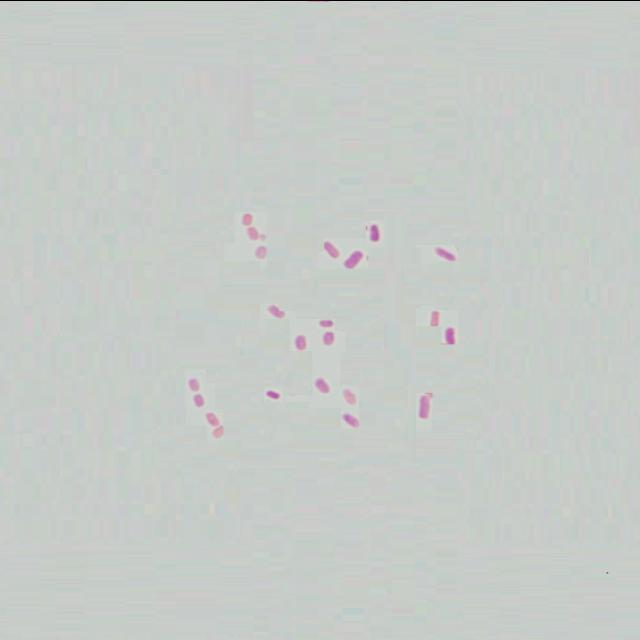E-coli: (432, 245, 462, 265), (418, 395, 436, 421), (346, 246, 366, 268), (342, 388, 364, 408), (364, 223, 386, 241), (323, 239, 341, 261), (251, 246, 275, 261), (311, 379, 333, 393), (201, 410, 223, 424), (265, 305, 288, 318), (322, 331, 340, 347), (427, 307, 442, 326), (292, 332, 306, 352), (187, 392, 207, 406), (243, 227, 263, 240), (339, 415, 362, 426), (444, 327, 459, 343), (209, 425, 225, 440), (266, 388, 284, 400), (186, 378, 204, 390), (243, 213, 259, 223), (318, 319, 336, 327)
